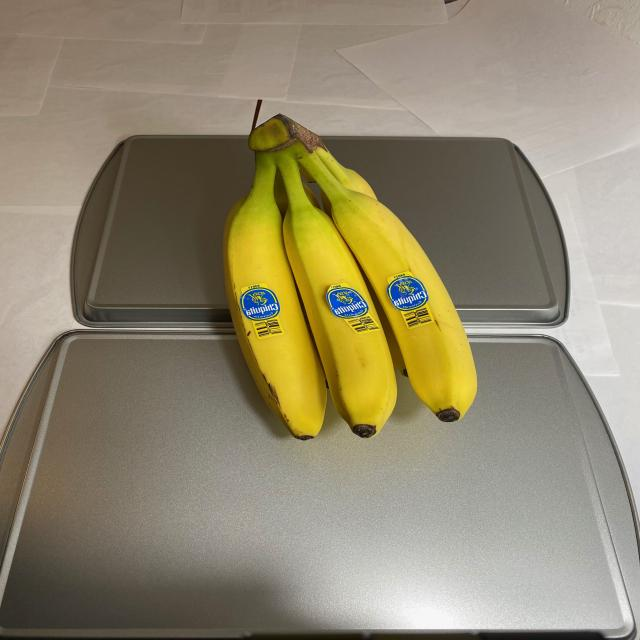banana: (218, 116, 482, 457)
